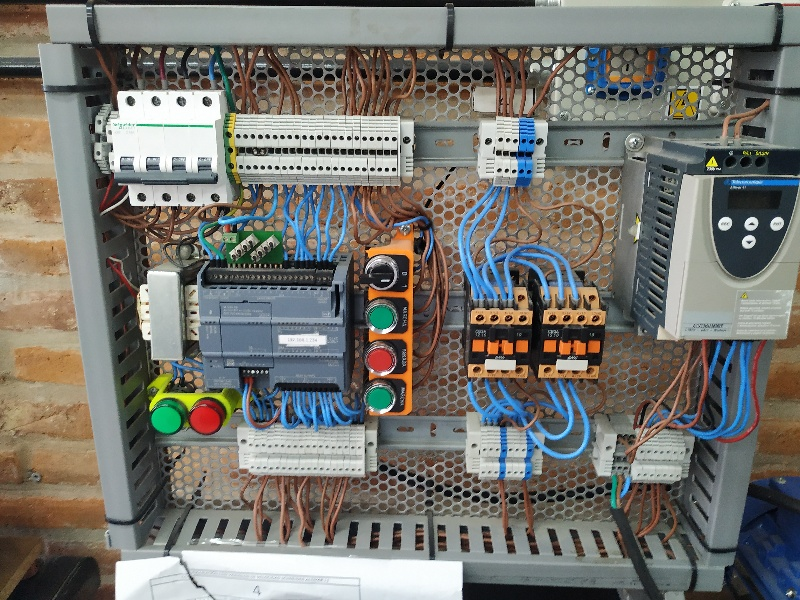Tablero 4: (63, 18, 799, 573)
